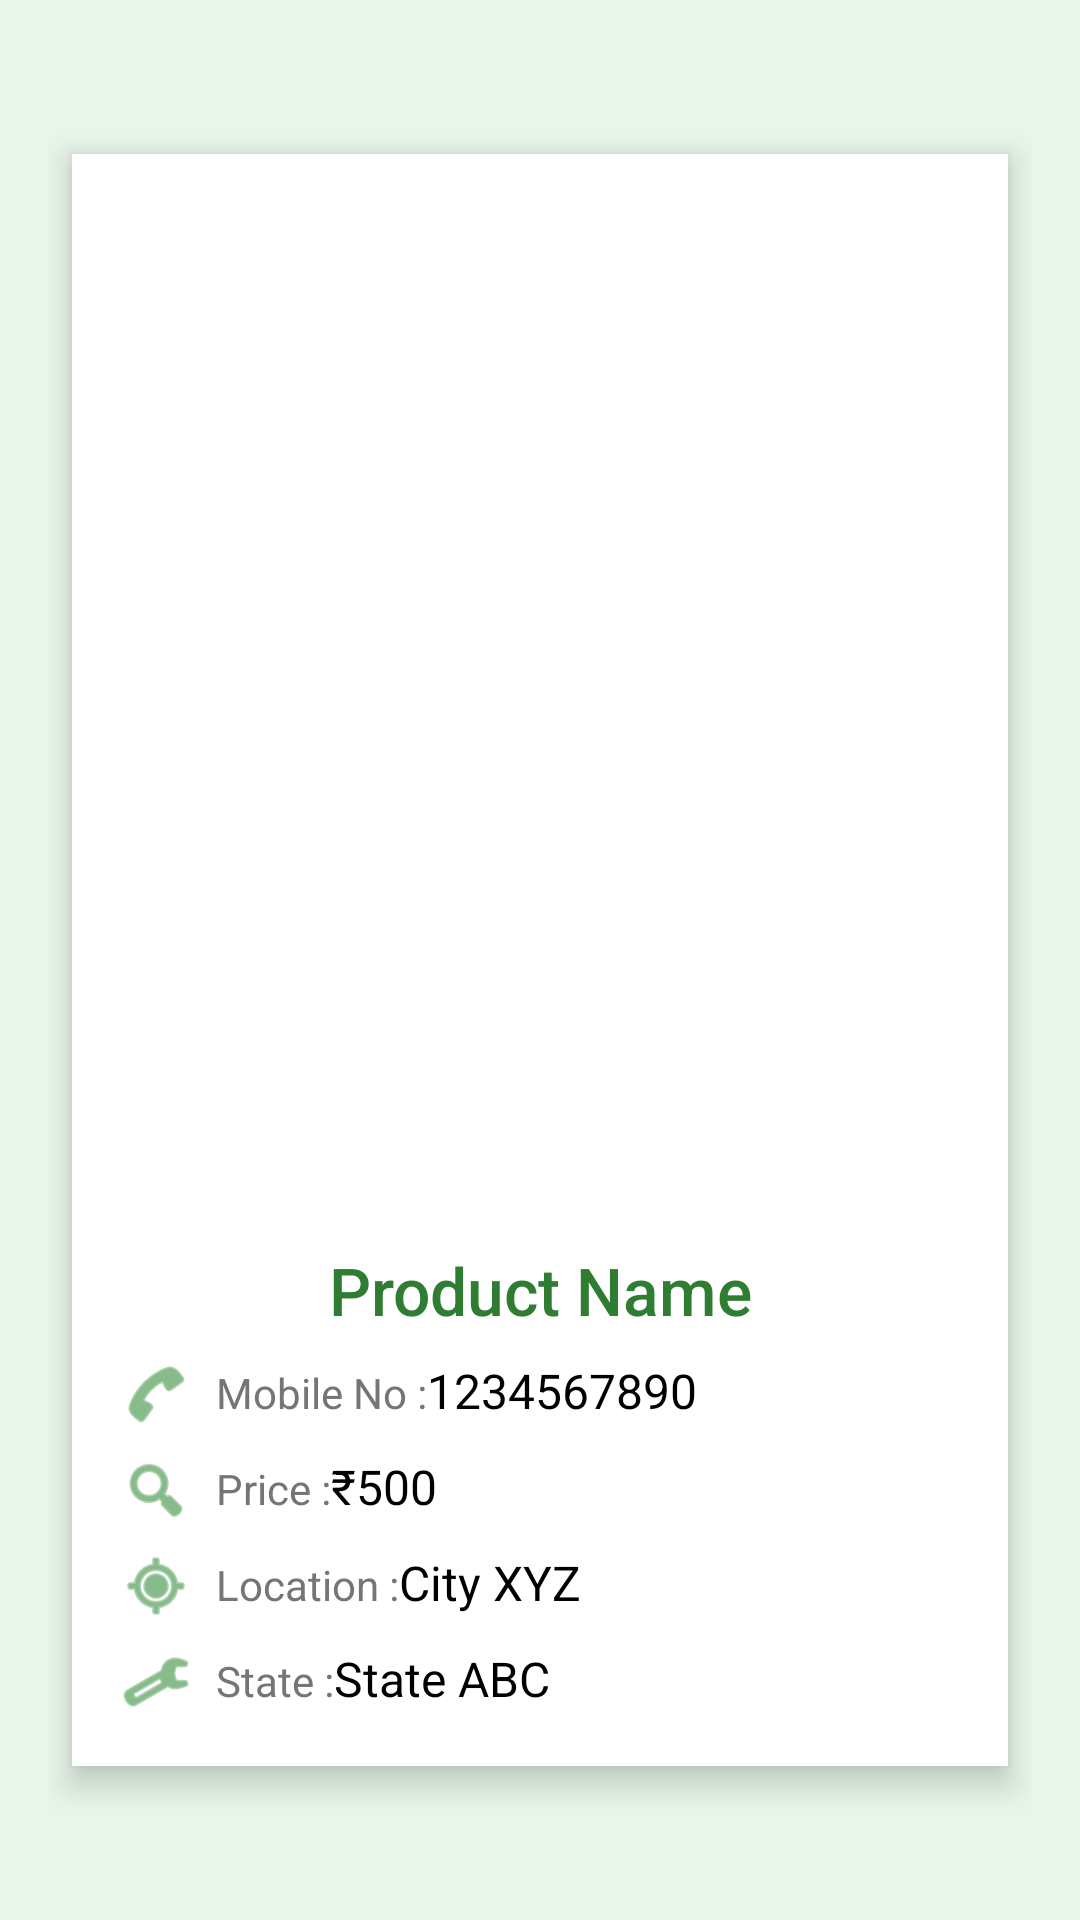

Icon bounding boxes for this 1080x1920 phone screenshot, format bbox=(x1, y1, x2, y2):
call: bbox=(128, 1366, 185, 1422)
manage: bbox=(124, 1657, 188, 1707)
search: bbox=(129, 1464, 183, 1517)
